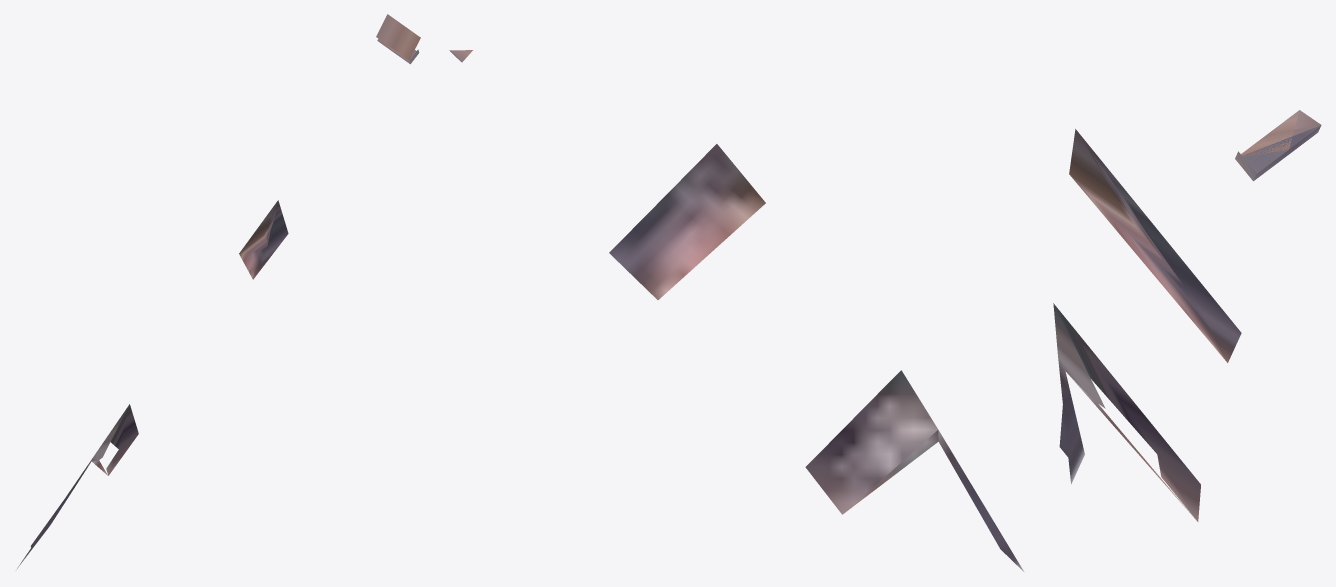
3 views of the same model, side by side, from view 1: azimuth 30°, elevation 25°; view 2: azimuth 150°, elevation 25°; view 3: azimuth 270°, elevation 25° (orthographic). The views are drawn at different scales.
Size of the model in its own units: 30.77 by 27.19 by 7.91.
Materials: 1 (1 with a texture image).
